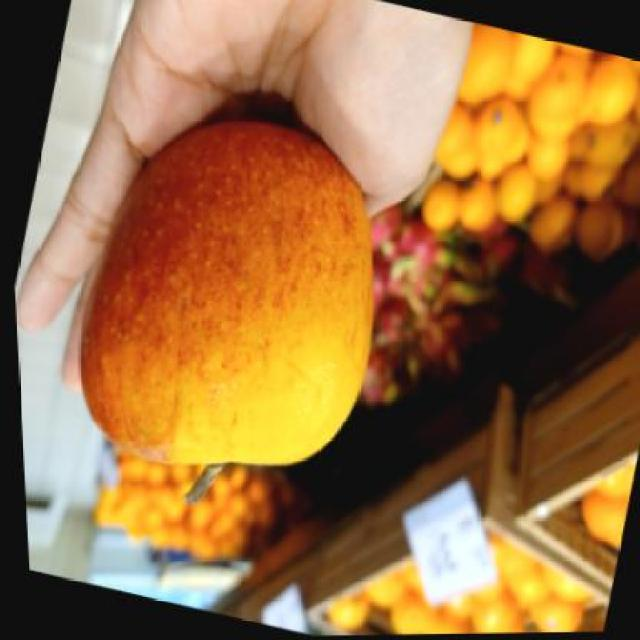Fresh Apple: (75, 128, 383, 468)
